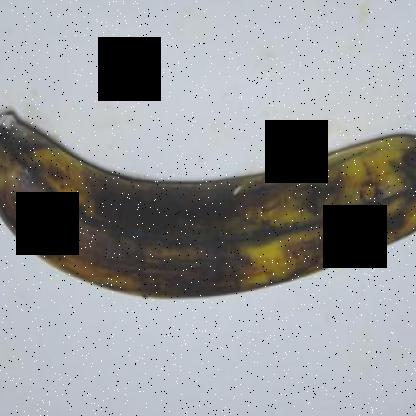overripe: (1, 80, 415, 321)
